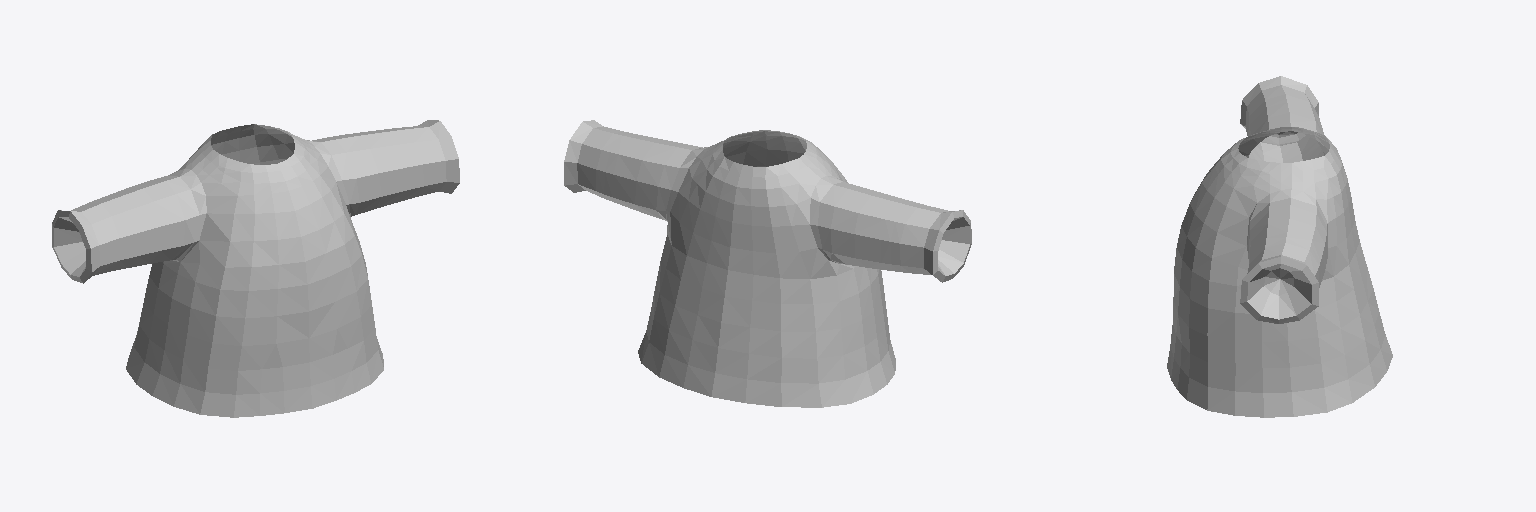
The model's file is dress.obj.
3 renders of one model, left to right at view 1: azimuth 30°, elevation 25°; view 2: azimuth 150°, elevation 25°; view 3: azimuth 270°, elevation 25°, orthographic.
Parts seen in each view (by area): view 1: Body__mTops.004; view 2: Body__mTops.004; view 3: Body__mTops.004.
Part boxes in pixels (bbox=[...]): Body__mTops.004: bbox=[52, 120, 459, 417]; Body__mTops.004: bbox=[564, 120, 971, 407]; Body__mTops.004: bbox=[1167, 76, 1392, 417].
Bounding box in the file's own units: 4.16 × 2.37 × 2.18.